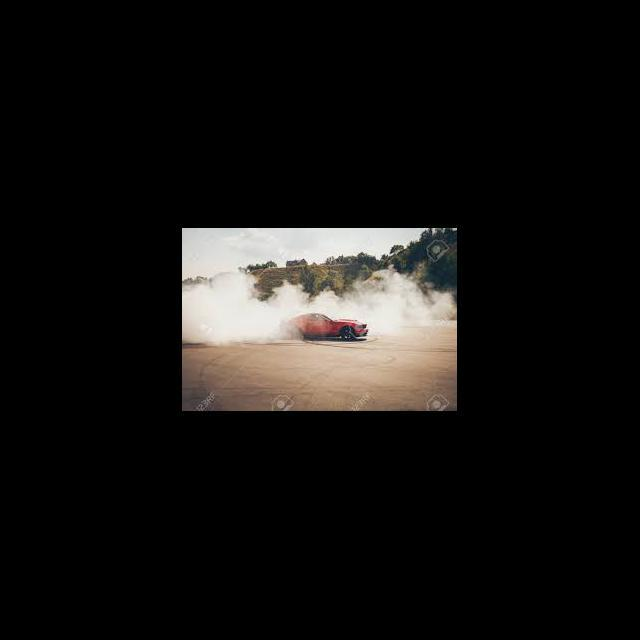Smoke: (184, 266, 456, 348)
